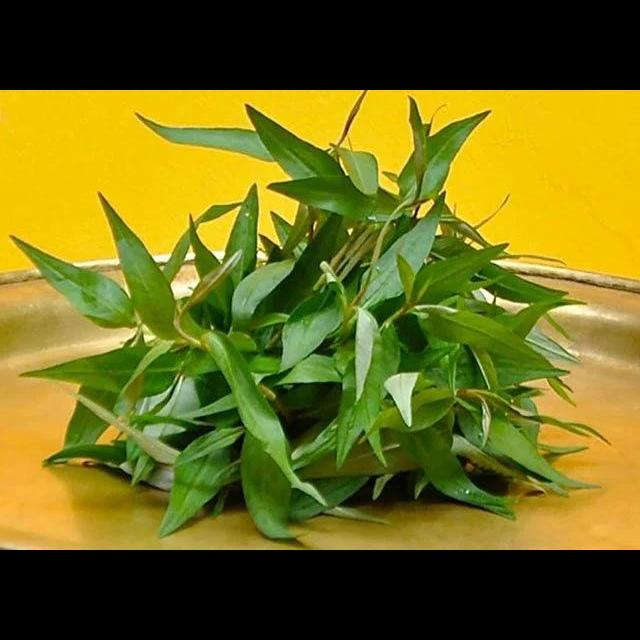rau ram: (5, 91, 615, 545)
